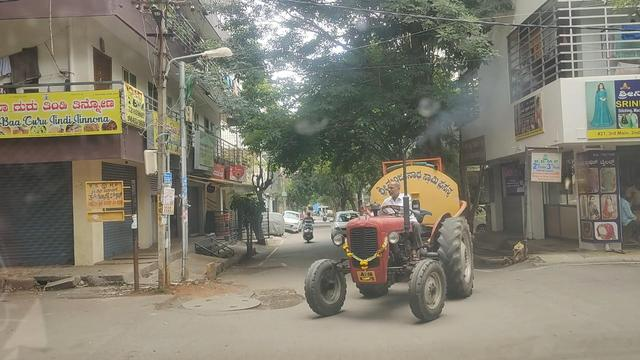HMV: (298, 143, 493, 324)
RoadDamages: (177, 277, 308, 332)
